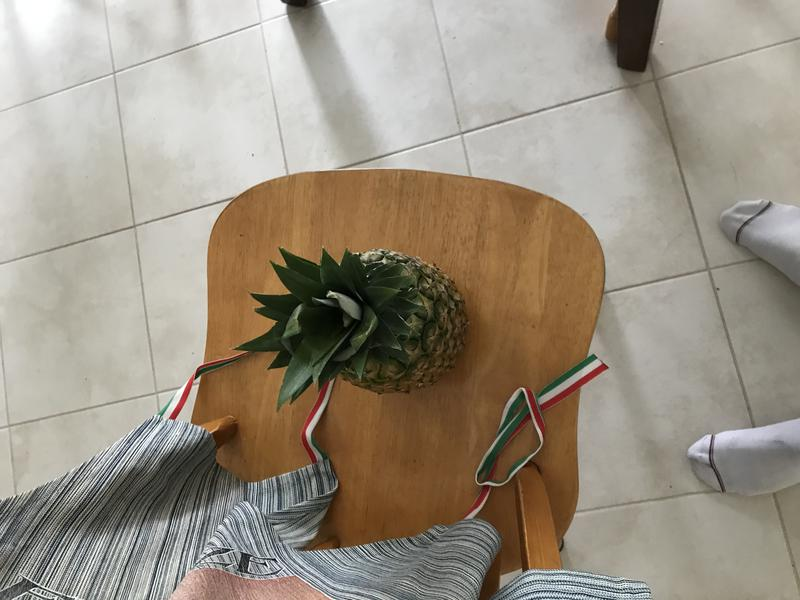pineapple: (235, 237, 475, 406)
